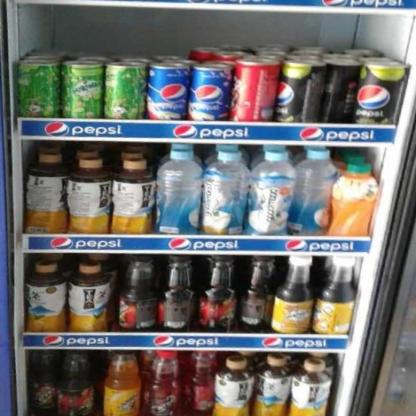goodmood: (150, 146, 198, 234), (200, 147, 247, 236), (292, 147, 336, 235), (248, 148, 292, 235)
mirinda-sodakem: (12, 57, 66, 120), (100, 59, 150, 121), (61, 56, 106, 121)
mirinda-xaxi-chai: (312, 254, 358, 335), (272, 250, 312, 335)
olong-teaplus: (22, 150, 68, 230), (66, 156, 111, 232), (109, 156, 153, 232), (23, 257, 67, 331), (68, 260, 109, 335), (212, 354, 256, 415), (253, 352, 293, 416), (290, 357, 334, 415)
pepsi-blue: (142, 60, 192, 122), (184, 63, 233, 123)
pepsi-chanhmuoi: (350, 57, 411, 127), (272, 57, 328, 126), (315, 54, 362, 127)
sting-cafe-chai: (115, 251, 157, 330), (197, 252, 238, 331), (160, 253, 198, 334), (53, 348, 98, 415), (238, 253, 276, 332), (24, 350, 62, 414)
sting-red: (226, 54, 280, 121)
sting-red-chai: (144, 350, 182, 416), (184, 350, 218, 416)
sting-yellow-chai: (102, 350, 140, 416)
twister-cam: (333, 160, 374, 238)
